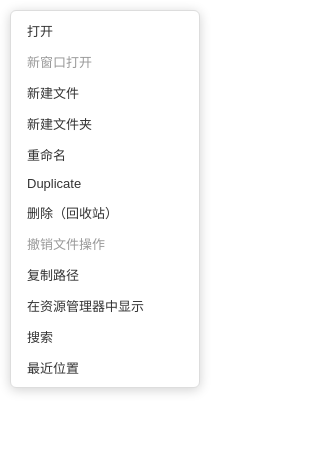
FileTreeMenu › 内联创建失败：提示错误且不关闭菜单
Click the button "新建文件".
click(105, 92)  # box [15,77,195,108]
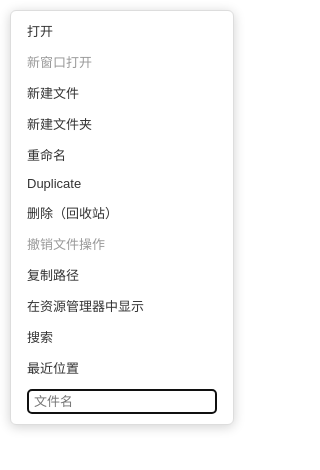
Type "dup.md" into the field with placeholder "文件名".
click(122, 402); type("dup.md")  # box [27,389,217,414]
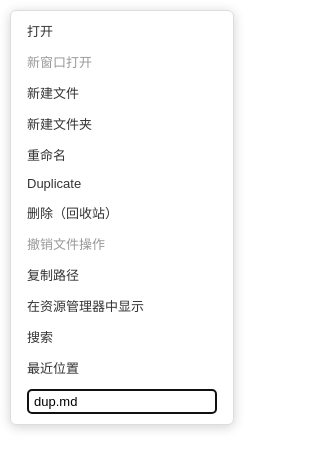
Press Enter in the field, box [27,389,217,414]
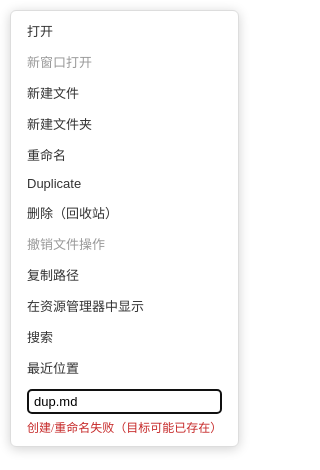
Result: the text "创建/重命名失败" is shown at [27,421,222,435]
